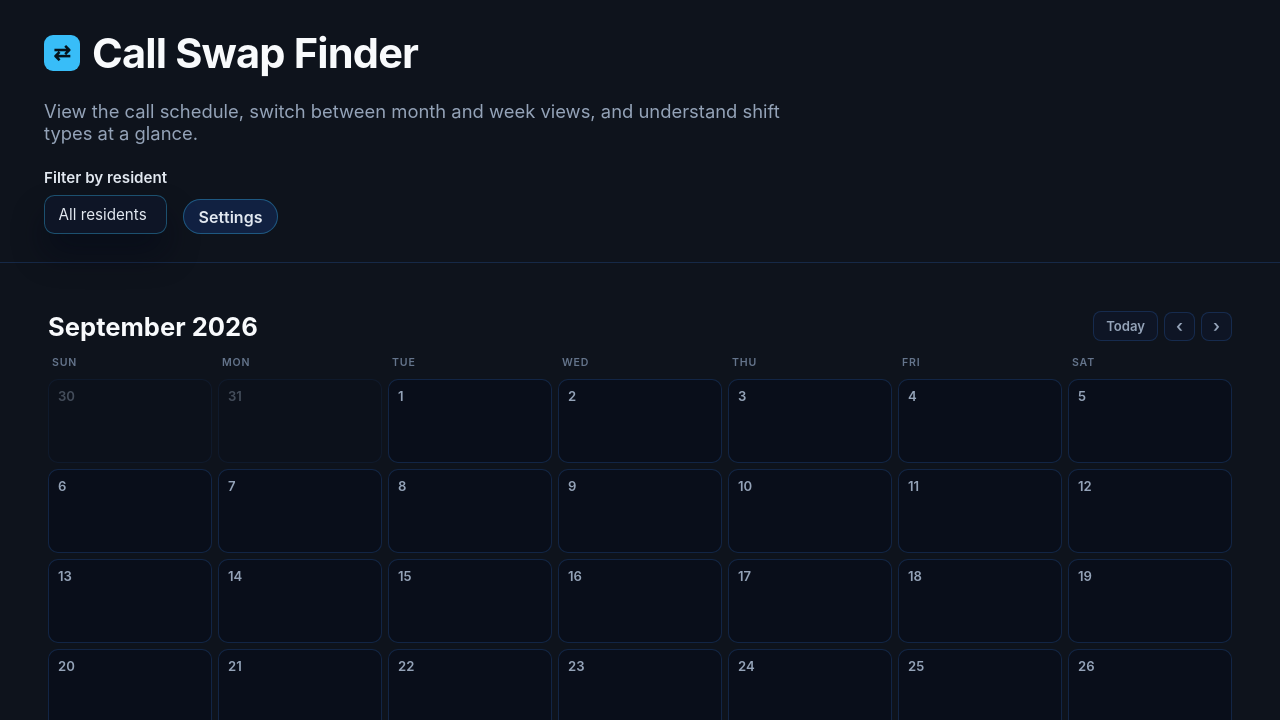
App side panel selection › ignores legacy resident toggle settings stored in cookies
Click the button "Settings" at (230, 217), box [183,199,278,234]
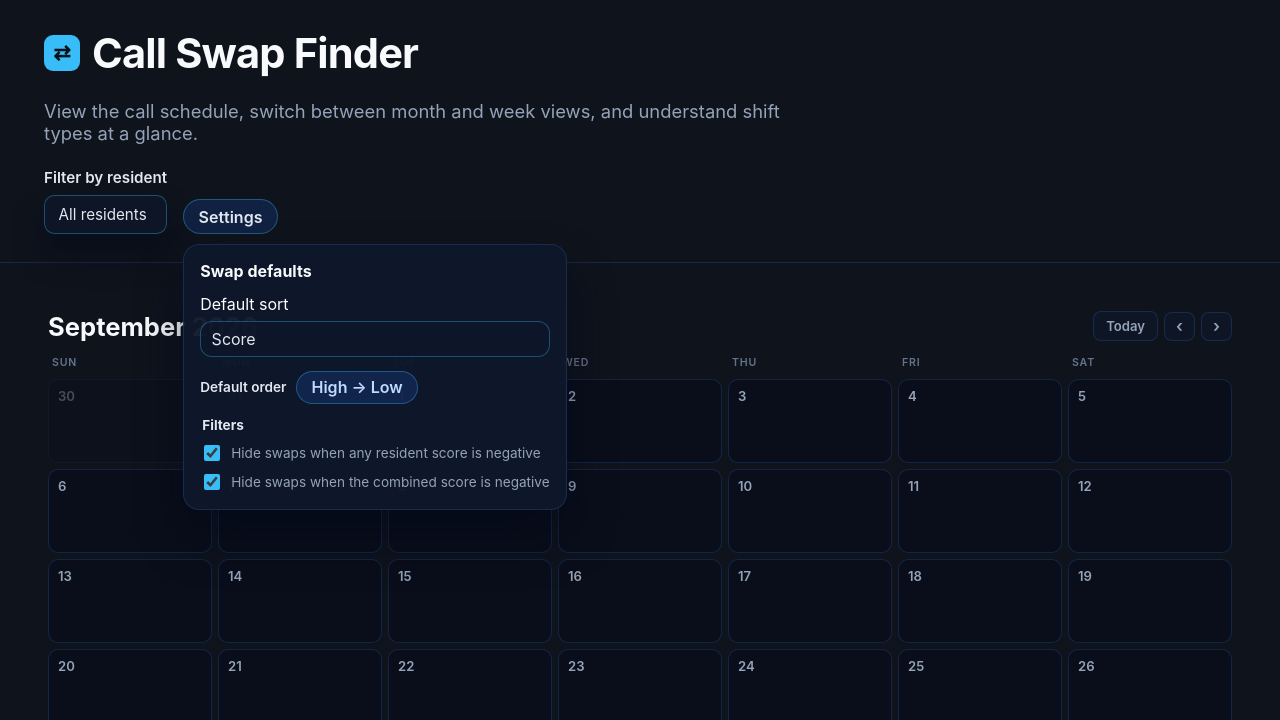
Result: the checkbox labelled "Hide swaps when any resident score is negative" is checked at [204,445,220,461]
Result: the checkbox labelled "Hide swaps when the combined score is negative" is checked at [204,474,220,490]
